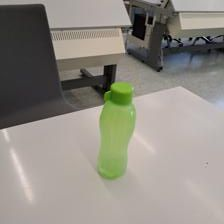bottle: (94, 82, 135, 179)
